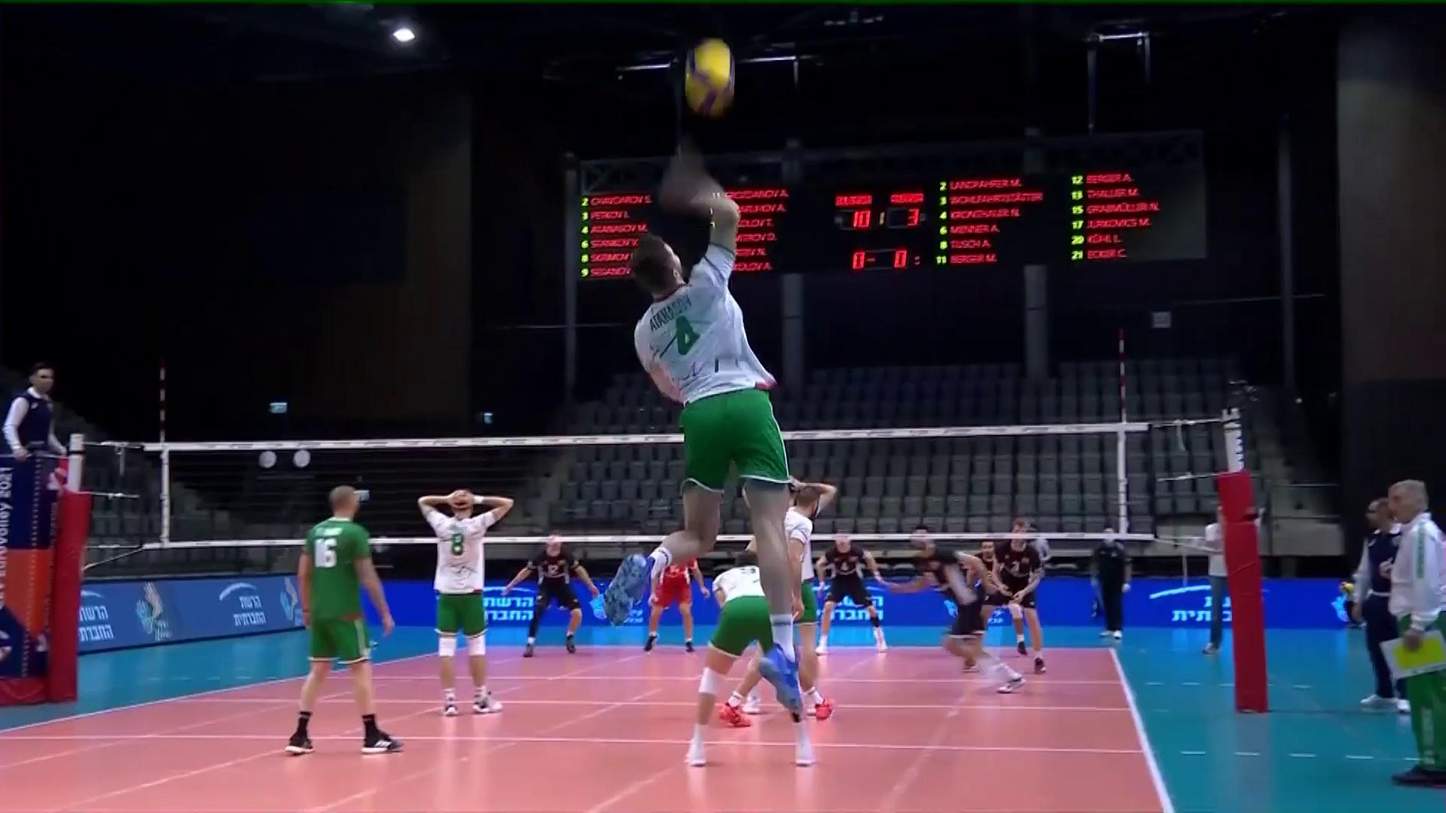ball: (682, 41, 739, 120)
